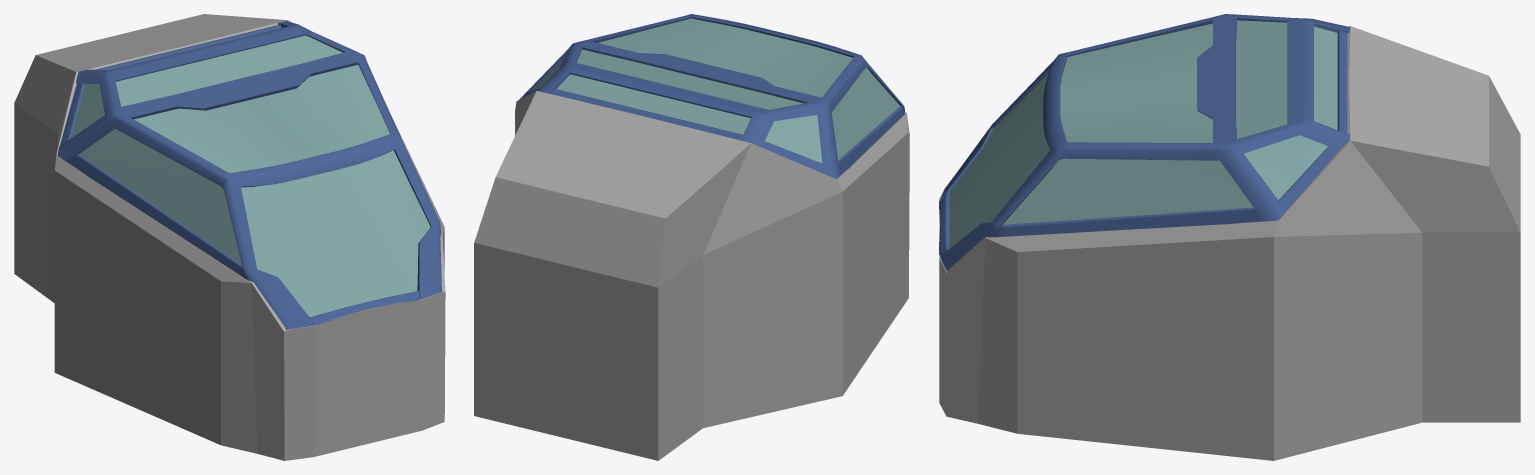
The model's file is uploads_files_1983289_Cockpit.fbx.
3 renders of one model, left to right at view 1: azimuth 30°, elevation 25°; view 2: azimuth 150°, elevation 25°; view 3: azimuth 270°, elevation 25°, orthographic. The views are drawn at different scales.
Parts seen in each view (by area): view 1: OUTSIDE_COVER, GLASS_LP, FRAME_LP; view 2: OUTSIDE_COVER, GLASS_LP, FRAME_LP; view 3: OUTSIDE_COVER, GLASS_LP, FRAME_LP.
Boxes of the visible parts, x1,y1,x2,y2 form: OUTSIDE_COVER: (14, 14, 445, 460); GLASS_LP: (71, 27, 430, 316); FRAME_LP: (57, 21, 442, 329); OUTSIDE_COVER: (474, 91, 909, 460); GLASS_LP: (534, 18, 899, 163); FRAME_LP: (519, 14, 904, 178); OUTSIDE_COVER: (939, 26, 1520, 460); GLASS_LP: (949, 20, 1337, 248); FRAME_LP: (939, 14, 1349, 270).
Bounding box in the file's own units: 76.76 × 61.8 × 108.
